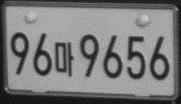5: (126, 34, 147, 79)
6: (148, 35, 170, 80), (102, 34, 123, 78), (33, 32, 52, 76)
9: (79, 34, 100, 78), (10, 31, 30, 76)
마: (53, 41, 74, 78)
